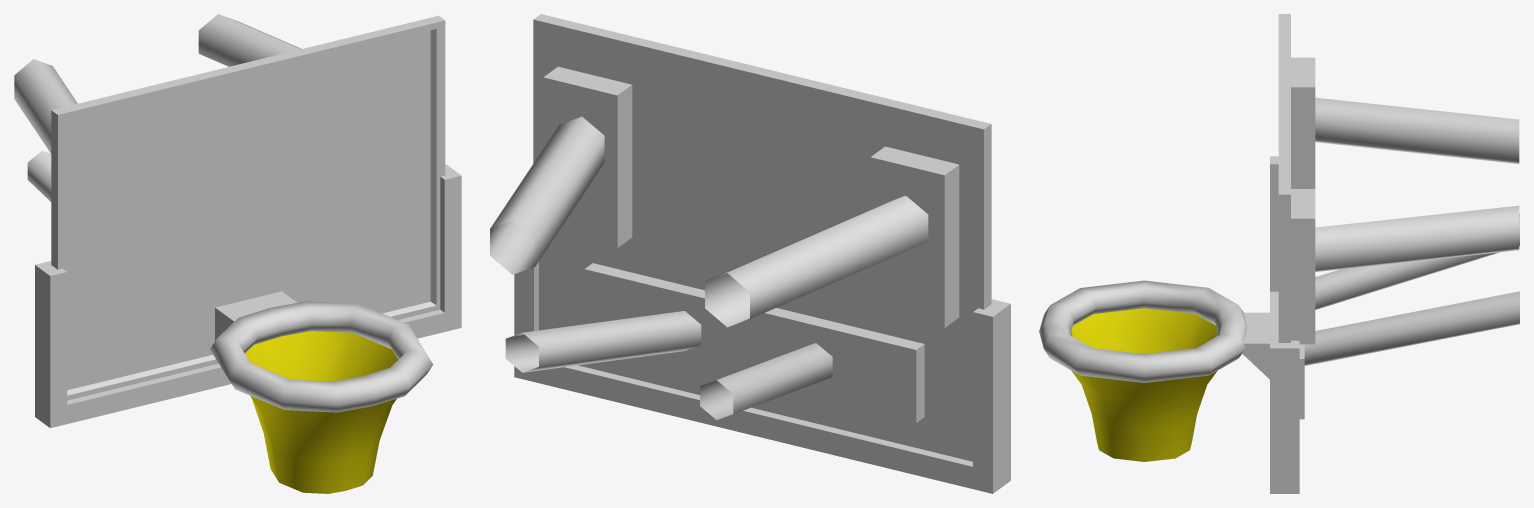
Rendered from SM_Basket_01.fbx.
The picture shows the model from 3 angles, left to right: view 1: azimuth 30°, elevation 25°; view 2: azimuth 150°, elevation 25°; view 3: azimuth 270°, elevation 25°; orthographic projection. The views are drawn at different scales.
Visible parts, largest first — view 1: Basket; view 2: Basket; view 3: Basket.
Part boxes in pixels (left/top/right/bottom): Basket: left=14, top=14, right=461, bottom=493; Basket: left=490, top=14, right=1010, bottom=493; Basket: left=1039, top=14, right=1519, bottom=493.
Size of the model in its own units: 188 by 155 by 199.
